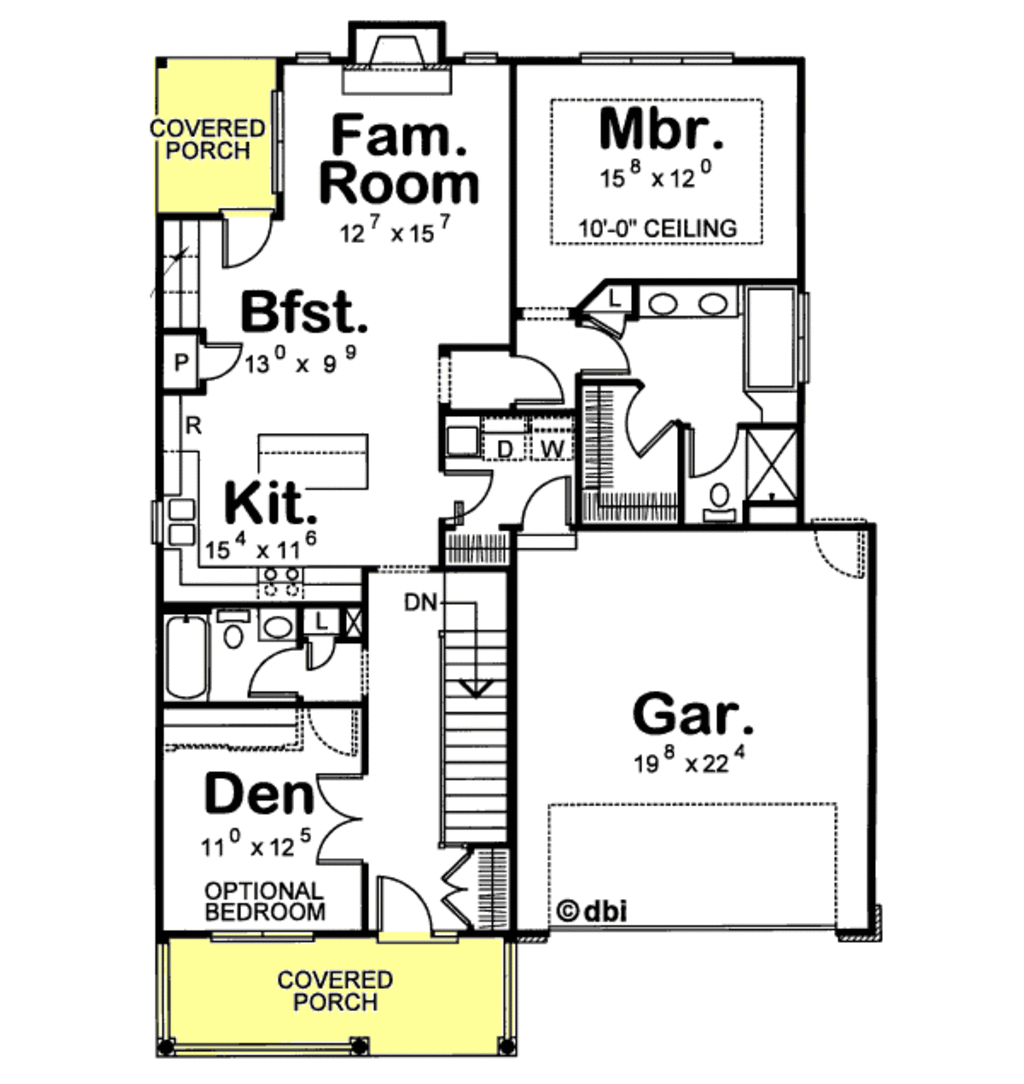door: (353, 863, 445, 948), (311, 778, 381, 871), (516, 465, 586, 558), (414, 850, 486, 932), (806, 510, 878, 579), (220, 202, 284, 273), (297, 699, 366, 756), (435, 458, 489, 527), (502, 350, 566, 404), (684, 425, 748, 478), (627, 388, 671, 461), (242, 651, 301, 699), (309, 635, 338, 681)
large_sink: (694, 479, 747, 522), (207, 606, 253, 651)
small_sink: (647, 283, 737, 315)
stairs: (430, 571, 530, 850)
tub: (740, 286, 793, 396), (165, 610, 216, 704)
twin_sink: (150, 497, 209, 555)
window: (268, 91, 296, 209), (579, 50, 745, 69), (212, 927, 324, 950), (463, 43, 509, 68)
